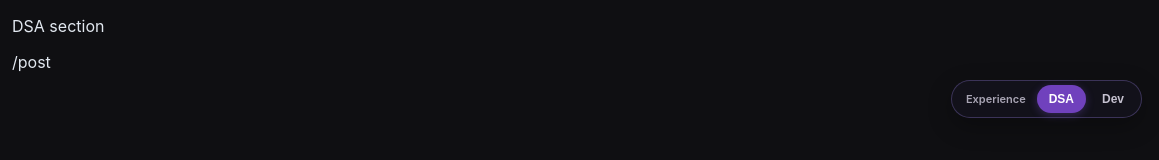
Test: experience switch › switches post within its section and supports browser history
Click the button "Dev" at (1113, 99), box [1089,85,1137,113]
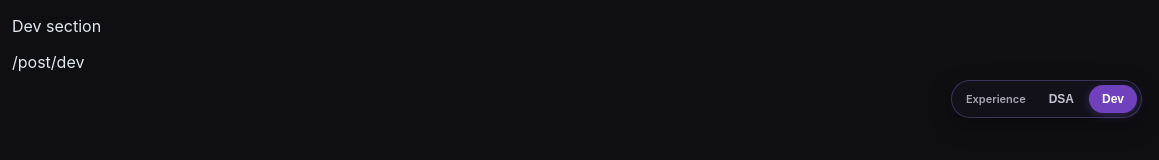
Result: the text "Dev section" is shown at [12,16,101,36]
Result: the text with test id "location" reads "/post/dev" at [12,52,84,72]
Click the button "DSA" at (1061, 99), box [1037,85,1086,113]
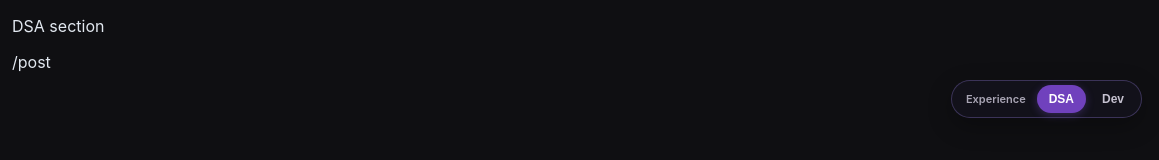
Expected: the text with test id "location" reads "/post", [12,52,51,72]
Result: the text "DSA section" is shown at [12,16,104,36]
